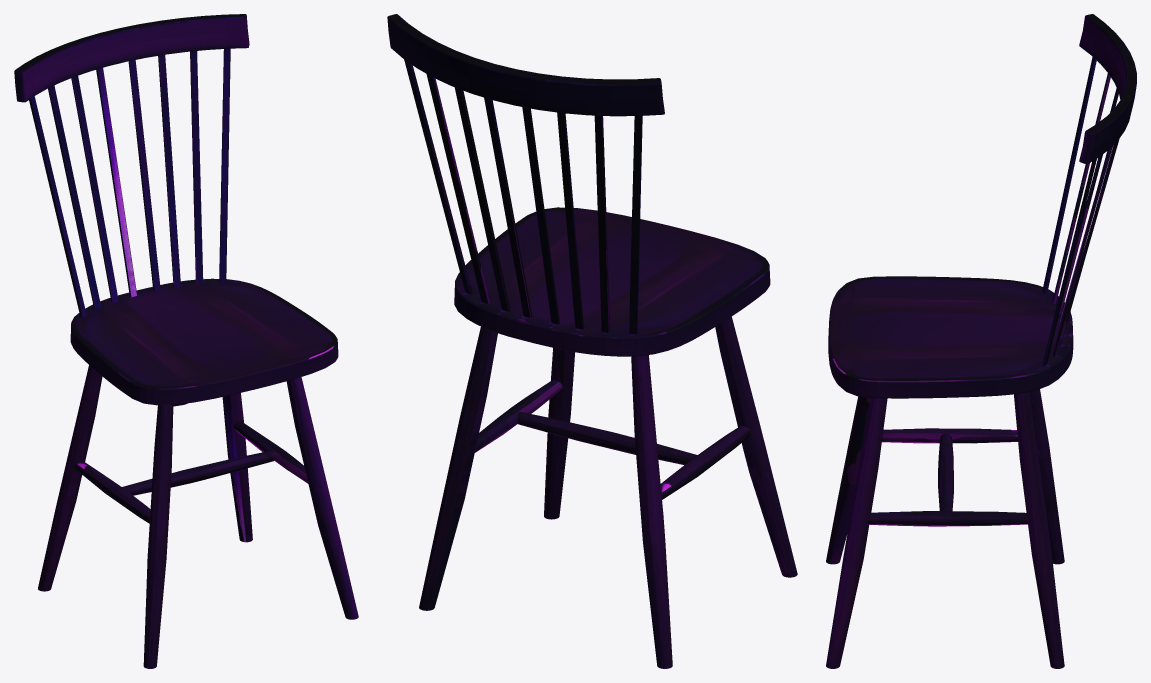
The model's file is edited_mesh.glb.
3 views of the same model, side by side, from view 1: azimuth 30°, elevation 25°; view 2: azimuth 150°, elevation 25°; view 3: azimuth 270°, elevation 25° (orthographic). The views are drawn at different scales.
Parts seen in each view (by area): view 1: normalized_model.obj; view 2: normalized_model.obj; view 3: normalized_model.obj.
Boxes of the visible parts, x1,y1,x2,y2 form: normalized_model.obj: (14, 14, 358, 668); normalized_model.obj: (387, 14, 797, 668); normalized_model.obj: (826, 14, 1136, 668).
Bounding box in the file's own units: 0.7566 × 1.59 × 0.8261.
1 material, 1 textured.
